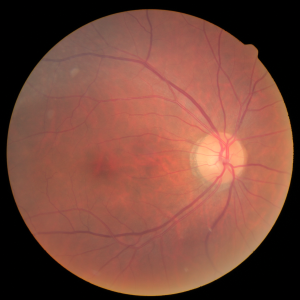healthy_eye: (49, 87, 266, 218)
